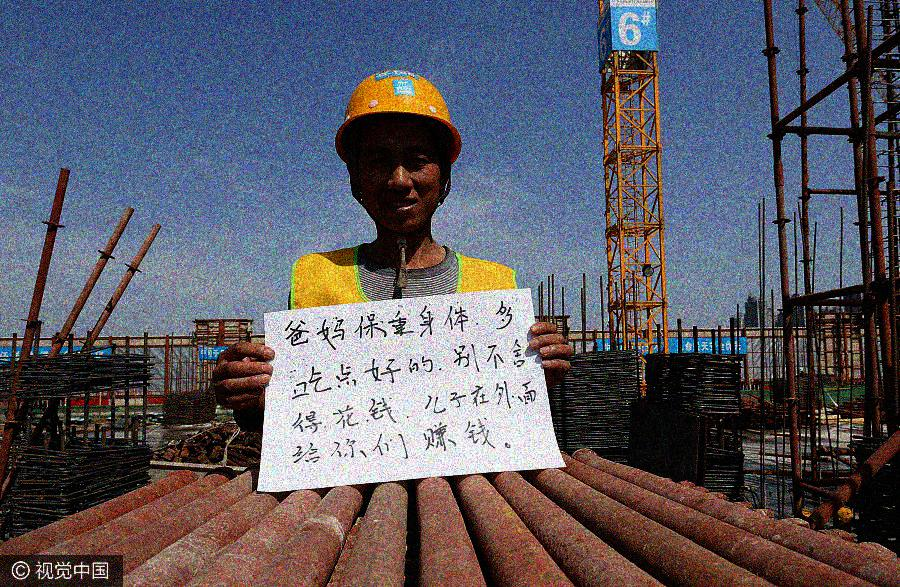helmet: (333, 67, 465, 237)
